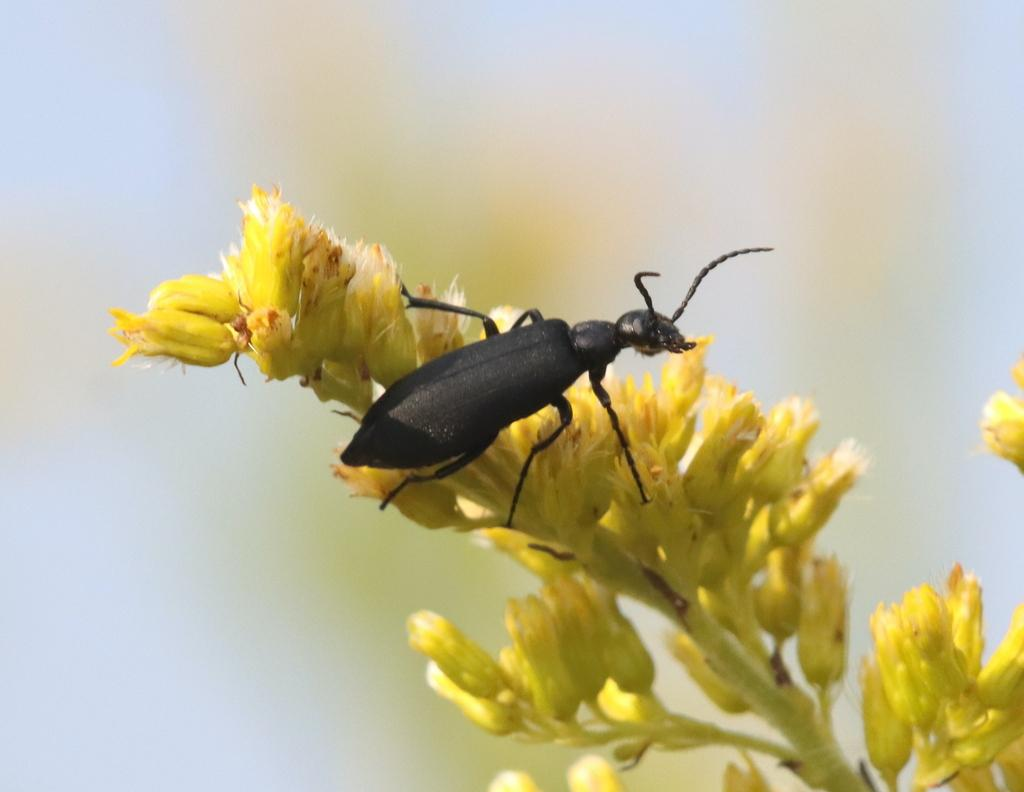blister_beetle: (291, 195, 812, 578)
